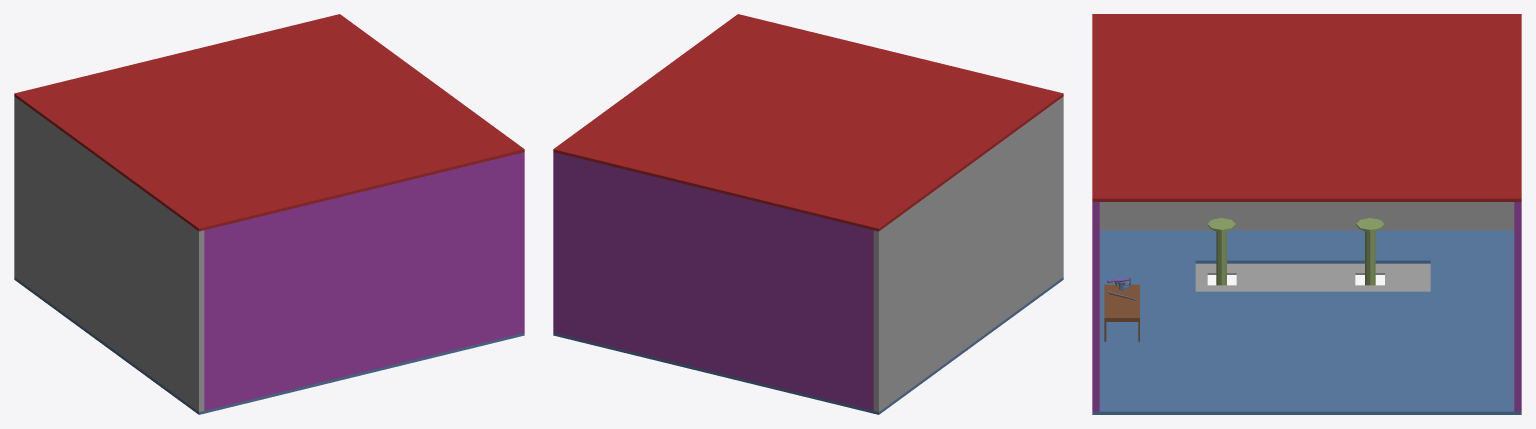
Rendered from Set cambio de llanta.fbx.
3 renders of one model, left to right at view 1: azimuth 30°, elevation 25°; view 2: azimuth 150°, elevation 25°; view 3: azimuth 270°, elevation 25°, orthographic. The views are drawn at different scales.
Parts seen in each view (by area): view 1: Techo, Paredes, Fondo, suelo; view 2: Techo, Paredes, Fondo, suelo; view 3: Techo, suelo, Fondo, Piso_elevadores, Paredes, Elevadores, Mesa.
Boxes of the visible parts, x1=… form: Techo: x1=14, y1=14, x2=524, y2=231; Paredes: x1=204, y1=152, x2=524, y2=410; Fondo: x1=14, y1=96, x2=204, y2=411; suelo: x1=14, y1=277, x2=524, y2=414; Techo: x1=553, y1=14, x2=1063, y2=231; Paredes: x1=553, y1=152, x2=873, y2=410; Fondo: x1=873, y1=96, x2=1063, y2=411; suelo: x1=553, y1=277, x2=1063, y2=414; Techo: x1=1092, y1=14, x2=1521, y2=201; suelo: x1=1092, y1=230, x2=1521, y2=414; Fondo: x1=1099, y1=202, x2=1514, y2=230; Piso_elevadores: x1=1195, y1=263, x2=1430, y2=291; Paredes: x1=1092, y1=202, x2=1521, y2=411; Elevadores: x1=1207, y1=218, x2=1384, y2=285; Mesa: x1=1104, y1=284, x2=1139, y2=341.
Bounding box in the file's own units: 48.39 × 28.18 × 47.56.
